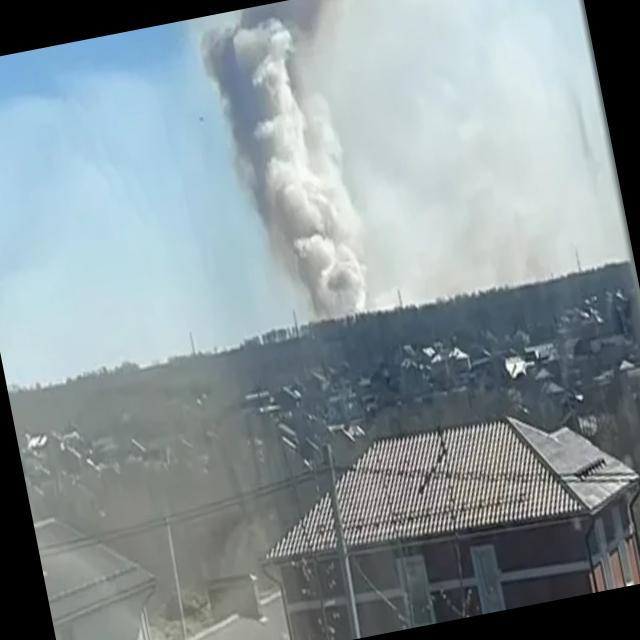Smoke: (194, 0, 403, 316)
